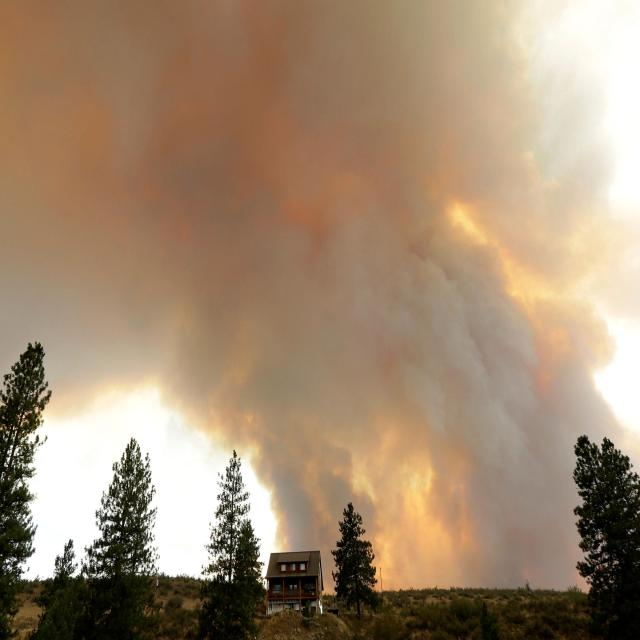Smoke: (27, 20, 617, 602)
